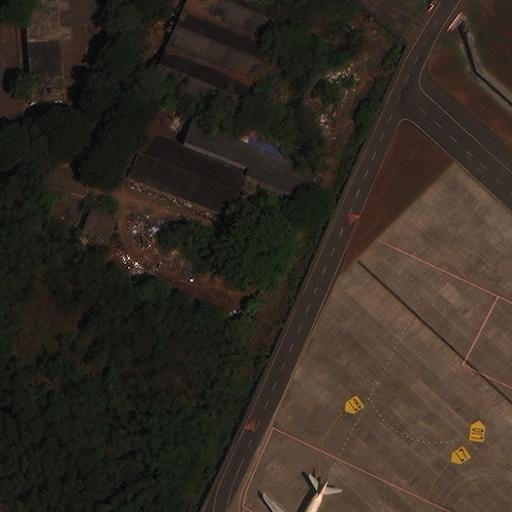Medium Civil Transport: (261, 478, 340, 511)
